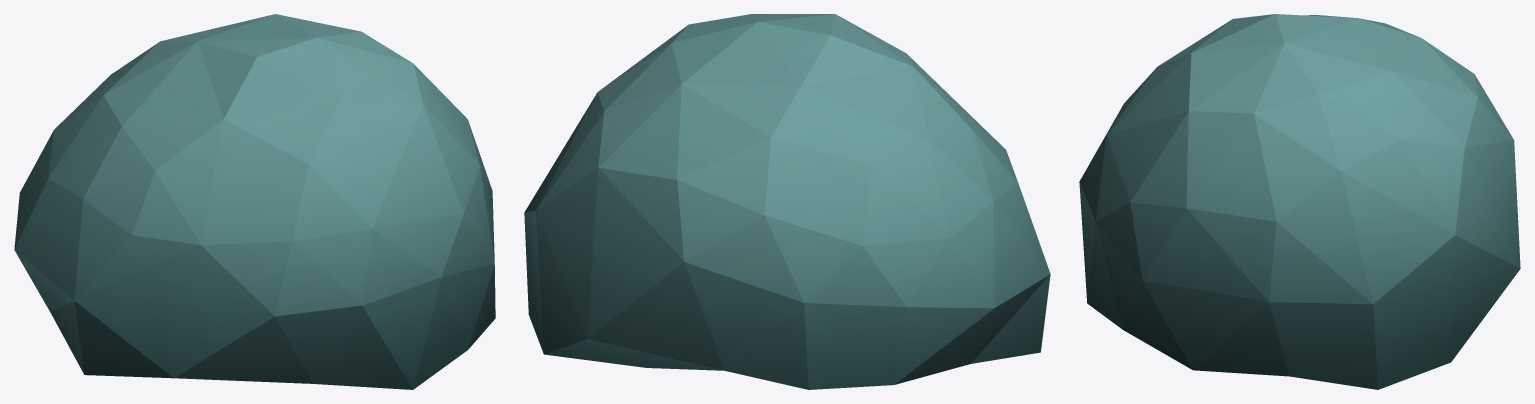
The model's file is Top_01_02.fbx.
3 renders of one model, left to right at view 1: azimuth 30°, elevation 25°; view 2: azimuth 150°, elevation 25°; view 3: azimuth 270°, elevation 25°, orthographic. The views are drawn at different scales.
Parts seen in each view (by area): view 1: Top_01; view 2: Top_01; view 3: Top_01.
Part boxes in pixels (box(x1,y1,x2,y2)): Top_01: box(14, 14, 495, 389); Top_01: box(524, 14, 1050, 389); Top_01: box(1079, 14, 1520, 389).
Bounding box in the file's own units: 1.55 × 0.9564 × 1.42.
